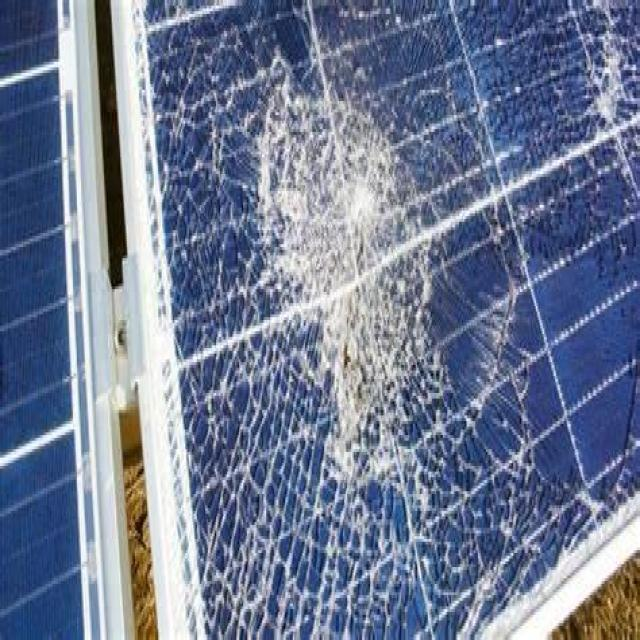cracked: (112, 3, 636, 640)
